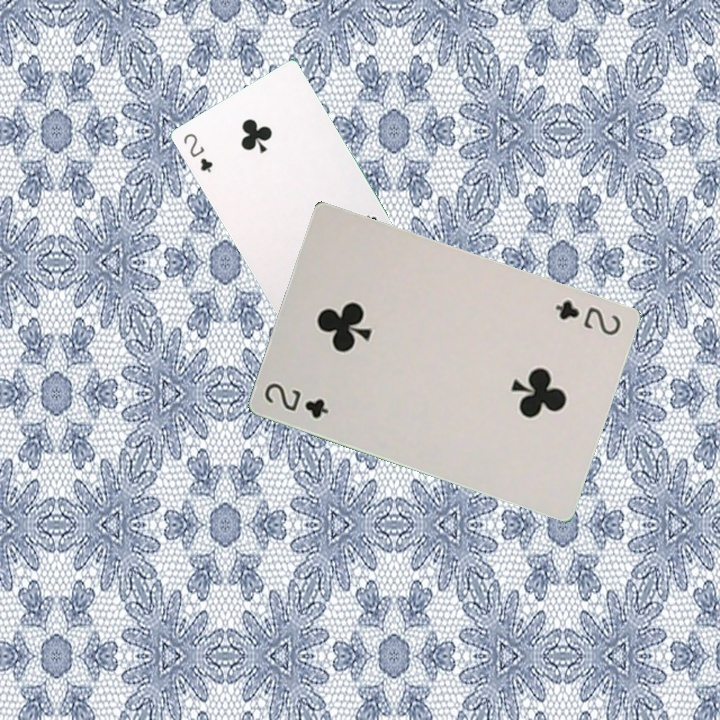2c: (551, 295, 624, 338), (260, 378, 332, 421), (179, 129, 215, 175)
